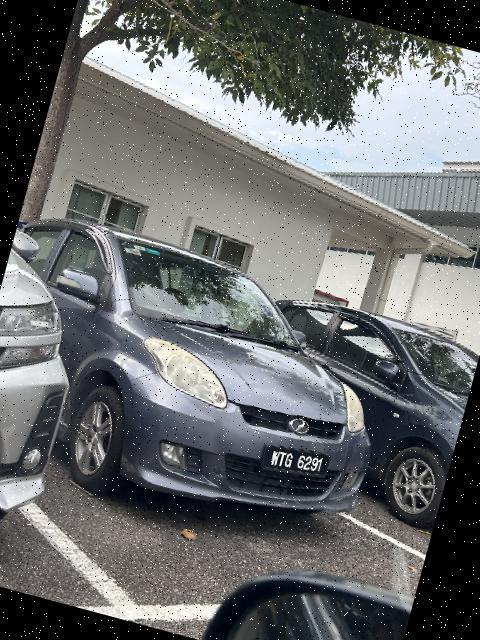License_Plate: (257, 439, 333, 489)
WTG6291: (257, 439, 333, 489)
car: (1, 202, 408, 562), (229, 285, 480, 531)
